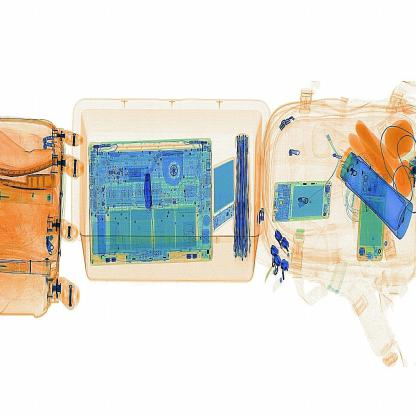knife: (138, 164, 166, 218)
